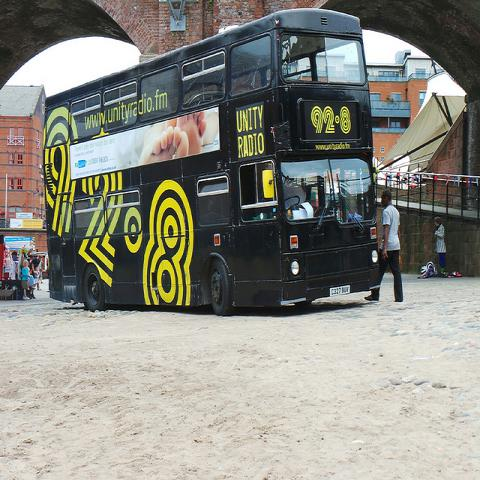bus: (40, 8, 383, 318)
